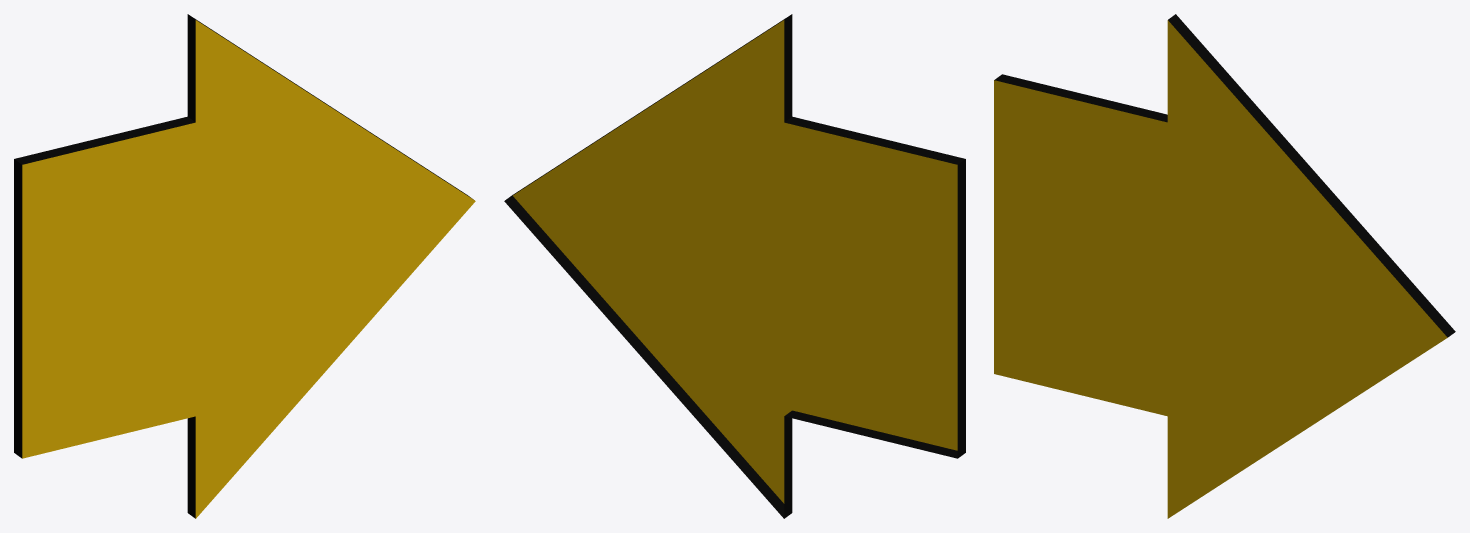
Rendered from arrow.fbx.
3 renders of one model, left to right at view 1: azimuth 30°, elevation 25°; view 2: azimuth 150°, elevation 25°; view 3: azimuth 330°, elevation 25°, orthographic.
Visible parts, largest first — view 1: Cube; view 2: Cube; view 3: Cube.
Boxes of the visible parts, box(x1,y1,x2,y2) form: Cube: box(14, 14, 475, 518); Cube: box(504, 14, 965, 518); Cube: box(994, 14, 1455, 518).
Size of the model in its own units: 162 by 170 by 5.
